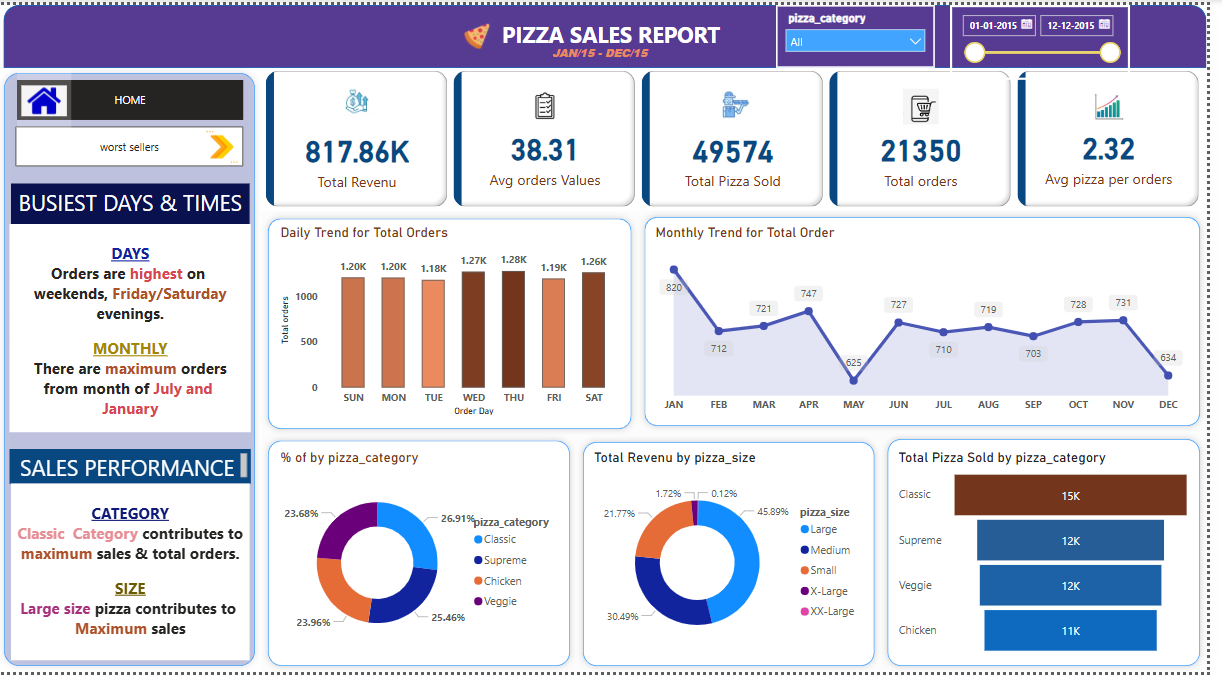

Layout of this report page (visuals, bound fields, positions):
{"tool":"powerbi","page":{"name":"HOME","canvas":[1500,820],"ordinal":0},"visuals":[{"type":"shape","box":[12.9,75.6,324.6,745],"z":0},{"type":"cardVisual","fields":{"Data":["Sheet1.Total Revenu","Sheet1.Avg orders Values","Sheet1.Total Pizza Sold","Sheet1.Total orders","Sheet1.Avg pizza per orders"]},"box":[337.5,75.6,1161.8,177],"z":1000},{"type":"shape","box":[20.3,0,1479,77.5],"z":2000},{"type":"textbox","box":[617.8,12.9,298.7,64.5],"z":3000},{"type":"textbox","box":[689.7,44.3,160.4,33.2],"z":4000},{"type":"image","box":[571.7,12.9,60.9,49.8],"z":5000},{"type":"shape","box":[337.5,254.5,462.9,274.8],"z":6000},{"type":"columnChart","title":"Daily Trend for Total Orders","fields":{"Y":["Sheet1.Total orders"],"Category":["Sheet1.Order Day"]},"box":[355.9,269.2,429.7,239.7],"z":7000},{"type":"shape","box":[800.3,252.6,698.9,272.9],"z":8000},{"type":"areaChart","title":"Monthly Trend for Total Order","fields":{"Category":["Sheet1.Order Month"],"Y":["Sheet1.Total orders"]},"box":[816.9,269.2,662,239.7],"z":9000},{"type":"shape","box":[337.5,527.4,387.3,293.2],"z":10000},{"type":"shape","box":[724.7,529.3,374.4,291.4],"z":11000},{"type":"shape","box":[1099.1,525.6,400.2,295.1],"z":12000},{"type":"donutChart","title":"% of  by pizza_category","fields":{"Category":["Sheet1.pizza_category"],"Y":["Sheet1.Total Revenu"]},"box":[355.9,545.9,355.9,258.2],"z":13000},{"type":"donutChart","fields":{"Y":["Sheet1.Total Revenu"],"Category":["Sheet1.pizza_size"]},"box":[741.3,545.9,343,258.2],"z":14000},{"type":"textbox","box":[29.5,219.5,293.2,49.8],"z":15000},{"type":"funnel","fields":{"Category":["Sheet1.pizza_category"],"Y":["Sheet1.Total Pizza Sold"]},"box":[1115.7,545.9,368.8,258.2],"z":16000},{"type":"textbox","box":[27.7,269.2,296.9,256.3],"z":17000},{"type":"textbox","box":[27.7,545.9,296.9,42.4],"z":18000},{"type":"textbox","box":[29.5,588.3,293.2,217.6],"z":19000},{"type":"pageNavigator","box":[36.9,92.2,278.5,49.8],"z":20000},{"type":"pageNavigator","box":[35,149.4,280.3,49.8],"z":21000},{"type":"image","box":[36.9,77.5,66.4,81.1],"z":22000},{"type":"image","box":[261.9,149.4,53.5,49.8],"z":23000},{"type":"slicer","fields":{"Values":["Sheet1.pizza_category"]},"box":[970,0,195.5,77.5],"z":24000},{"type":"slicer","fields":{"Values":["Sheet1.order_date"]},"box":[1183.9,0,221.3,92.2],"z":25000}]}

Visuals, with their boxes in screenshot pixels (x1, y1, x2, y2), scaled from the page's 1500x820 canvas onto the 1222x677 screenshot:
shape: BBox(11, 62, 275, 676)
cardVisual - Sheet1.Total Revenu x Sheet1.Avg orders Values: BBox(275, 62, 1221, 209)
shape: BBox(17, 0, 1221, 64)
textbox: BBox(503, 11, 747, 64)
textbox: BBox(562, 37, 693, 64)
image: BBox(466, 11, 515, 52)
shape: BBox(275, 210, 652, 437)
"Daily Trend for Total Orders" columnChart: BBox(290, 222, 640, 420)
shape: BBox(652, 209, 1221, 434)
"Monthly Trend for Total Order" areaChart: BBox(666, 222, 1205, 420)
shape: BBox(275, 435, 590, 676)
shape: BBox(590, 437, 895, 676)
shape: BBox(895, 434, 1221, 676)
"% of  by pizza_category" donutChart: BBox(290, 451, 580, 664)
donutChart - Sheet1.Total Revenu x Sheet1.pizza_size: BBox(604, 451, 883, 664)
textbox: BBox(24, 181, 263, 222)
funnel - Sheet1.pizza_category x Sheet1.Total Pizza Sold: BBox(909, 451, 1209, 664)
textbox: BBox(23, 222, 264, 434)
textbox: BBox(23, 451, 264, 486)
textbox: BBox(24, 486, 263, 665)
pageNavigator: BBox(30, 76, 257, 117)
pageNavigator: BBox(29, 123, 257, 164)
image: BBox(30, 64, 84, 131)
image: BBox(213, 123, 257, 164)
slicer - Sheet1.pizza_category: BBox(790, 0, 949, 64)
slicer - Sheet1.order_date: BBox(964, 0, 1145, 76)
